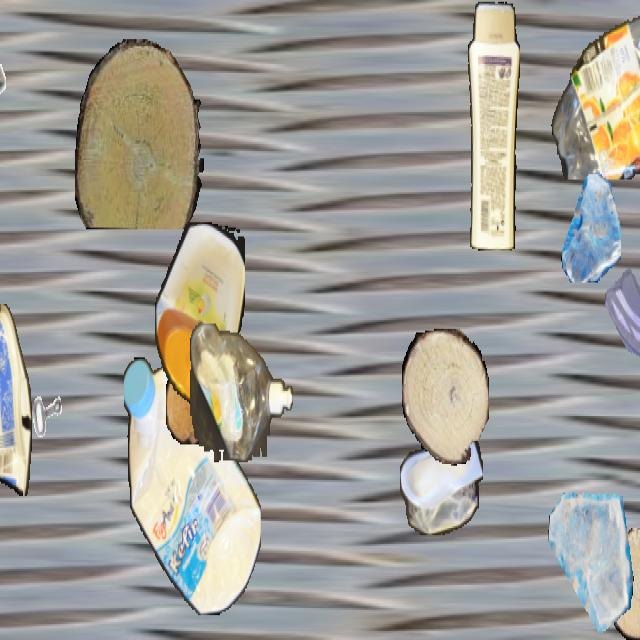glass: (547, 486, 633, 638), (560, 174, 620, 281), (605, 256, 640, 377)
metal: (13, 343, 71, 446), (0, 2, 18, 94)
plastic: (124, 356, 260, 615), (155, 222, 245, 404), (550, 2, 640, 180), (190, 324, 292, 462), (465, 2, 519, 250), (400, 427, 482, 533), (0, 304, 31, 496)
wood: (75, 39, 203, 228), (402, 329, 488, 464), (166, 362, 210, 444), (608, 528, 640, 638)
